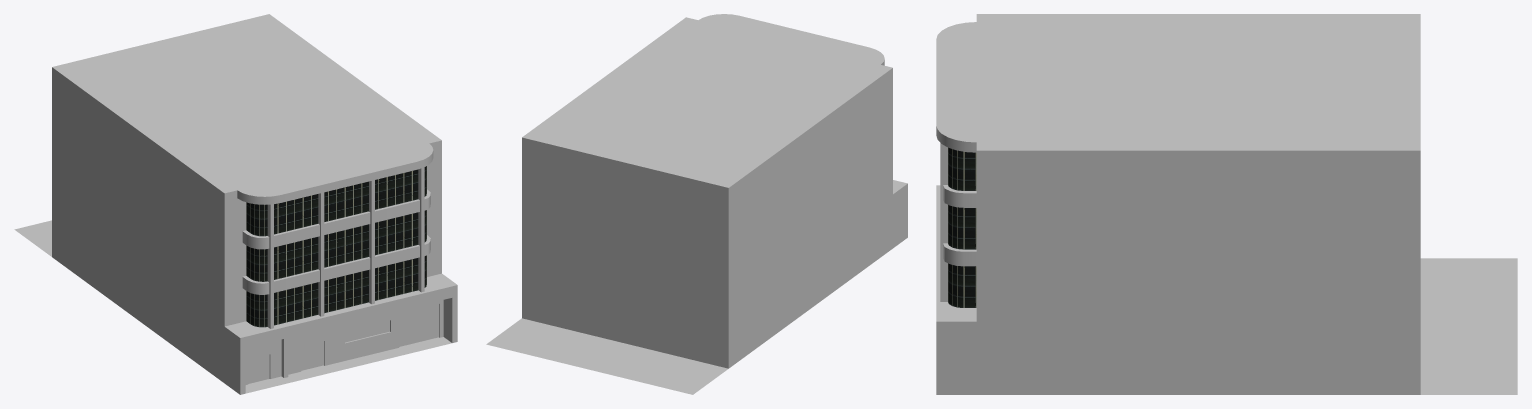
The picture shows the model from 3 angles, left to right: view 1: azimuth 30°, elevation 25°; view 2: azimuth 150°, elevation 25°; view 3: azimuth 270°, elevation 25°; orthographic projection. The views are drawn at different scales.
Parts seen in each view (by area): view 1: BB-030; view 2: BB-030; view 3: BB-030.
Boxes of the visible parts, <box> form: BB-030: <box>14,14,457,394</box>; BB-030: <box>486,14,907,394</box>; BB-030: <box>936,14,1517,394</box>.
Size of what is drawn, in the model's own units: 20 by 16.7 by 36.
